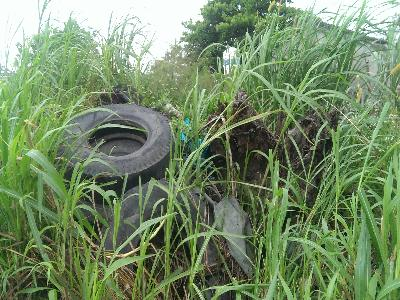tire: (51, 102, 176, 205)
